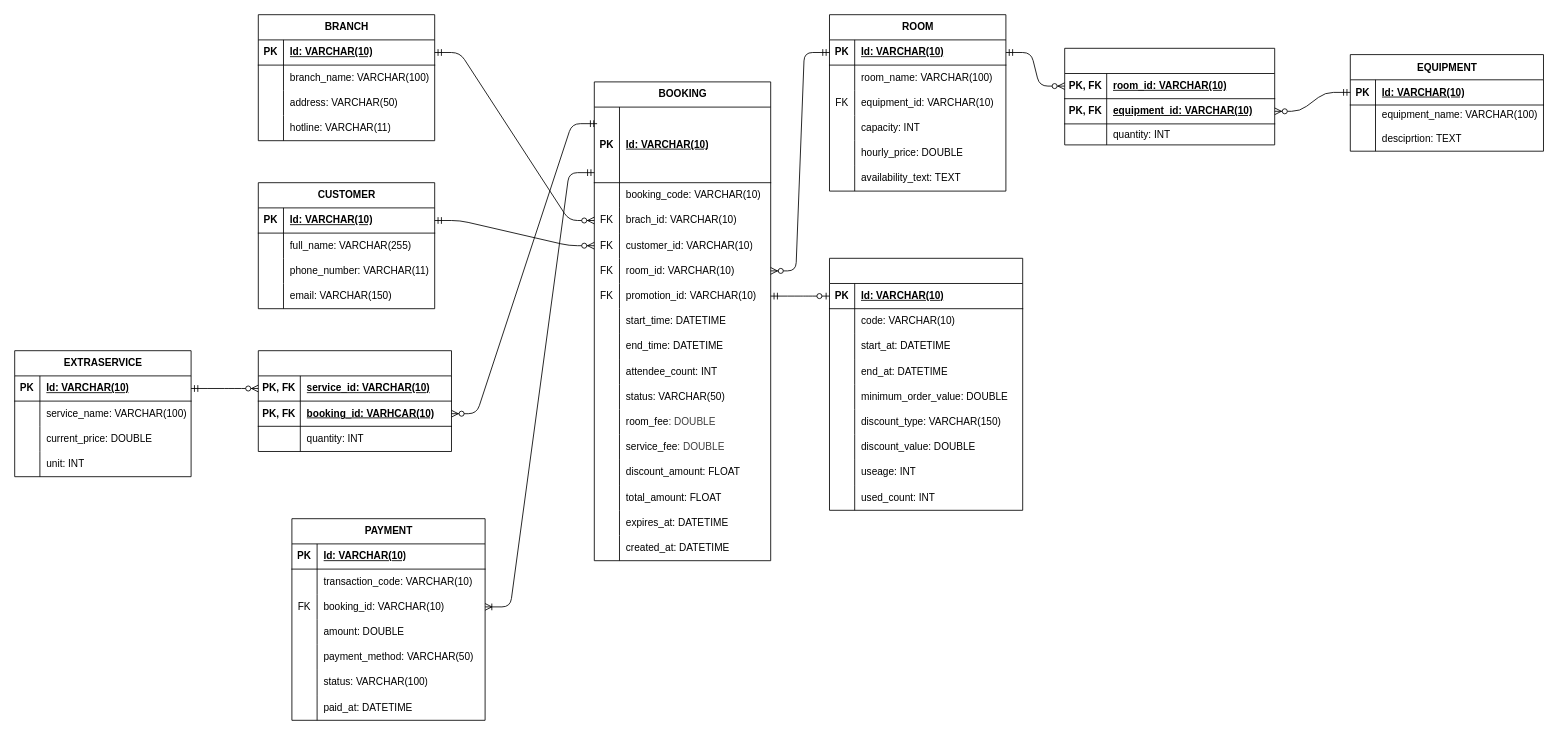
The diagram is 1558 pixels wide and 735 high, and some of its shapes have lost their labels. Here are the shapes that lost their labels. From the top down, the box of each, then its label:
(1064, 47, 1275, 145): ROOM_EQUIPMENT
(257, 350, 452, 452): BOOKING_SERVICE
(829, 257, 1023, 510): PROMOTION
